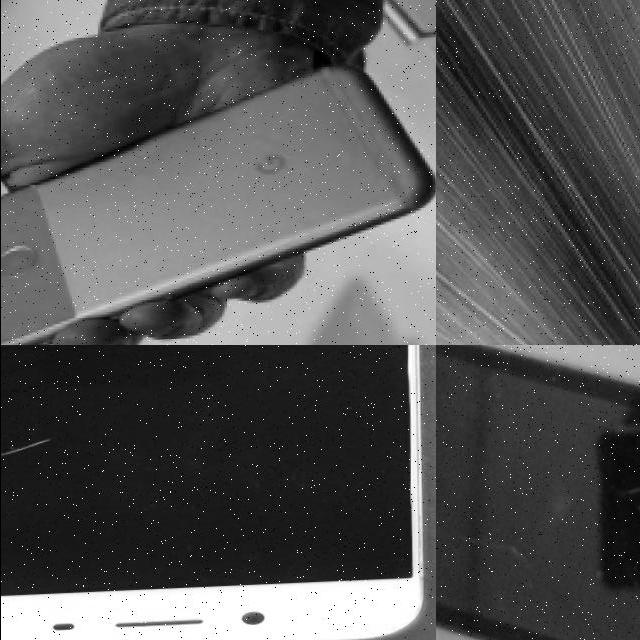scratch: (0, 432, 58, 471)
screen crack: (440, 508, 537, 585)
